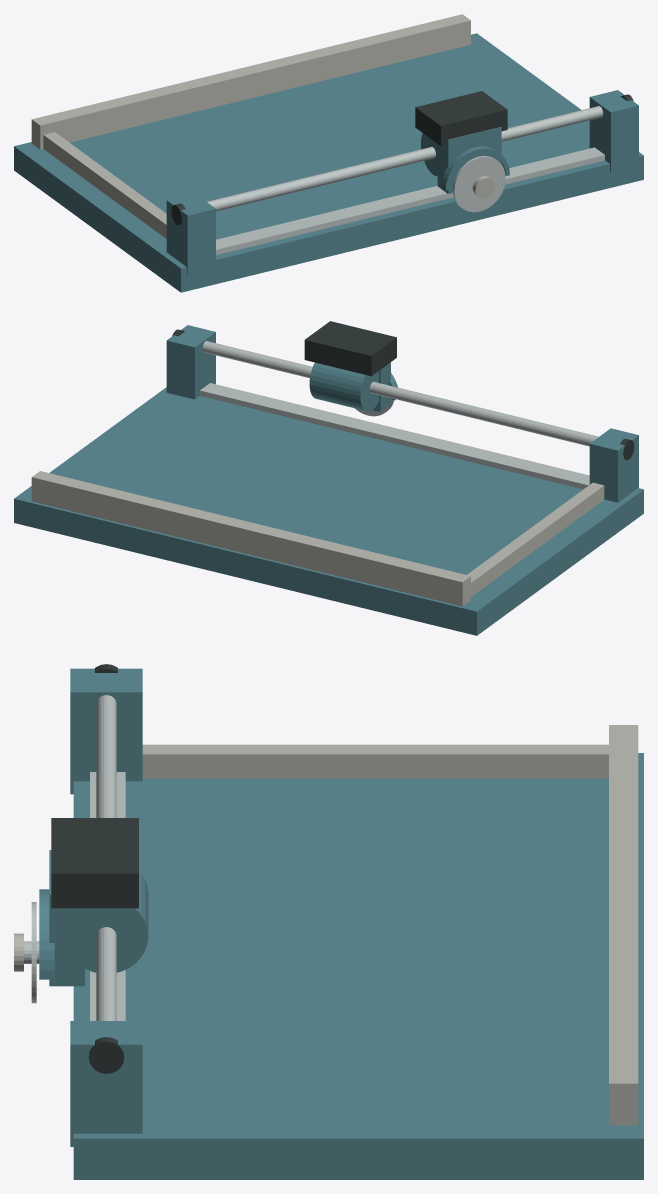
The picture shows the model from 3 angles, top to bottom: view 1: azimuth 30°, elevation 25°; view 2: azimuth 150°, elevation 25°; view 3: azimuth 270°, elevation 25°; orthographic projection. The views are drawn at different scales.
Visible parts, largest first — view 1: WholeGroundFootFlatBed, WholeRearAlignmentFence, WholeLongPressureStrip, WholeContinuousRoundTraverseGuide, WholeRaisedCarriageGrip, WholeGuideEndPedestal_0, WholeGuideEndPedestal_1, WholeLeftBedStop, WholeBluntRoundCuttingDisk, WholeHeadFrontCheek, WholeUpperHalfDiskGuard; view 2: WholeGroundFootFlatBed, WholeRearAlignmentFence, WholeLongPressureStrip, WholeContinuousRoundTraverseGuide, WholeRaisedCarriageGrip, WholeLeftBedStop, WholeGuideEndPedestal_1, WholeGuideEndPedestal_0, WholeBoredSlidingHeadSleeve; view 3: WholeGroundFootFlatBed, WholeLeftBedStop, WholeRearAlignmentFence, WholeRaisedCarriageGrip, WholeGuideEndPedestal_1, WholeGuideEndPedestal_0, WholeContinuousRoundTraverseGuide, WholeBoredSlidingHeadSleeve, WholeHeadFrontCheek, WholeLongPressureStrip, WholeUpperHalfDiskGuard, WholeGuideEndCap_1.
Boxes of the visible parts, x1,y1,x2,y2 form: WholeGroundFootFlatBed: [14, 33, 643, 292]; WholeRearAlignmentFence: [31, 14, 470, 149]; WholeLongPressureStrip: [216, 147, 604, 255]; WholeContinuousRoundTraverseGuide: [207, 106, 603, 211]; WholeRaisedCarriageGrip: [415, 91, 507, 145]; WholeGuideEndPedestal_0: [166, 193, 215, 275]; WholeGuideEndPedestal_1: [589, 90, 638, 171]; WholeLeftBedStop: [43, 132, 166, 238]; WholeBluntRoundCuttingDisk: [453, 156, 505, 212]; WholeHeadFrontCheek: [437, 127, 501, 193]; WholeUpperHalfDiskGuard: [441, 146, 509, 190]; WholeGroundFootFlatBed: [14, 387, 643, 635]; WholeRearAlignmentFence: [31, 471, 470, 606]; WholeLongPressureStrip: [200, 383, 589, 489]; WholeContinuousRoundTraverseGuide: [202, 341, 598, 446]; WholeRaisedCarriageGrip: [304, 321, 396, 376]; WholeLeftBedStop: [467, 482, 604, 596]; WholeGuideEndPedestal_1: [166, 325, 215, 399]; WholeGuideEndPedestal_0: [589, 428, 638, 502]; WholeBoredSlidingHeadSleeve: [309, 362, 378, 411]; WholeGroundFootFlatBed: [73, 753, 643, 1179]; WholeLeftBedStop: [142, 744, 608, 778]; WholeRearAlignmentFence: [609, 725, 638, 1125]; WholeRaisedCarriageGrip: [51, 818, 138, 908]; WholeGuideEndPedestal_1: [70, 1021, 142, 1146]; WholeGuideEndPedestal_0: [70, 668, 142, 794]; WholeContinuousRoundTraverseGuide: [96, 695, 116, 1020]; WholeBoredSlidingHeadSleeve: [85, 870, 148, 972]; WholeHeadFrontCheek: [49, 850, 84, 986]; WholeLongPressureStrip: [90, 772, 125, 1020]; WholeUpperHalfDiskGuard: [39, 889, 54, 979]; WholeGuideEndCap_1: [88, 1037, 124, 1073].
Bounding box in the file's own units: 0.72 × 0.163 × 0.497.
